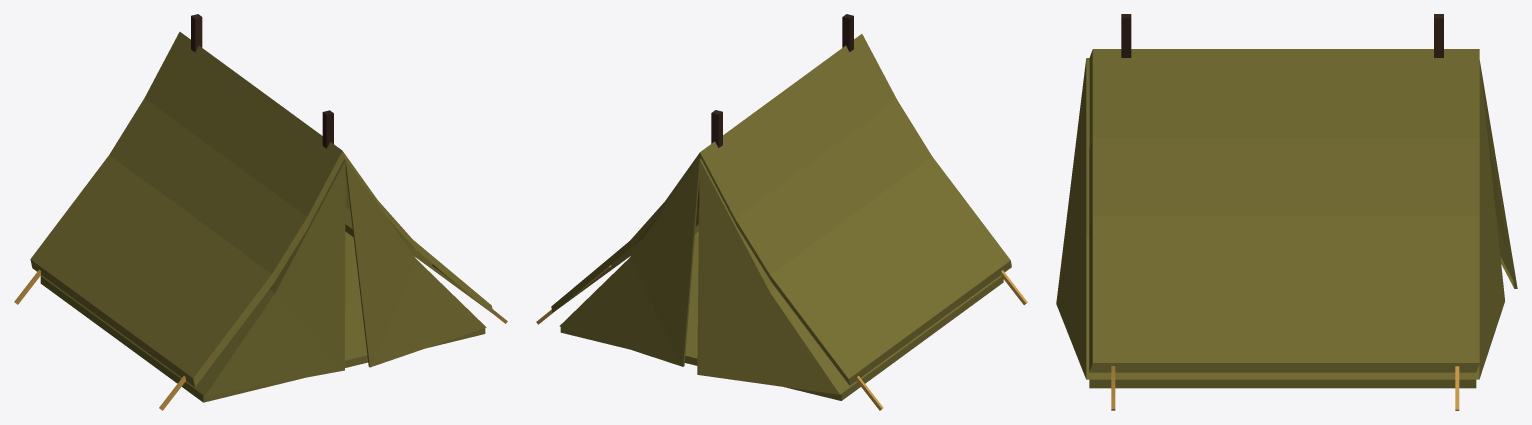
File: tent_access.glb
The picture shows the model from 3 angles, left to right: view 1: azimuth 30°, elevation 25°; view 2: azimuth 150°, elevation 25°; view 3: azimuth 270°, elevation 25°; orthographic projection. The views are drawn at different scales.
Visible parts, largest first — view 1: Tent_Access; view 2: Tent_Access; view 3: Tent_Access.
Part boxes in pixels (x1,y1,x2,y2): Tent_Access: [14, 14, 507, 410]; Tent_Access: [536, 14, 1027, 410]; Tent_Access: [1056, 14, 1517, 410].
Bounding box in the file's own units: 2.46 × 1.71 × 2.39.
